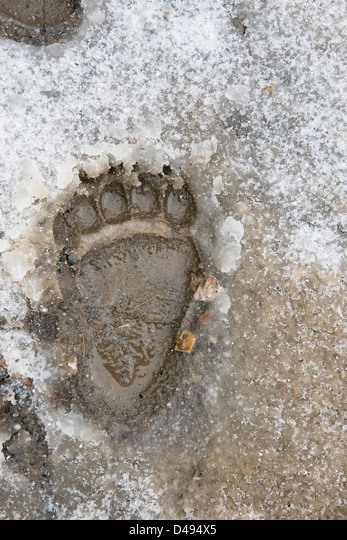bear: (30, 142, 225, 465)
